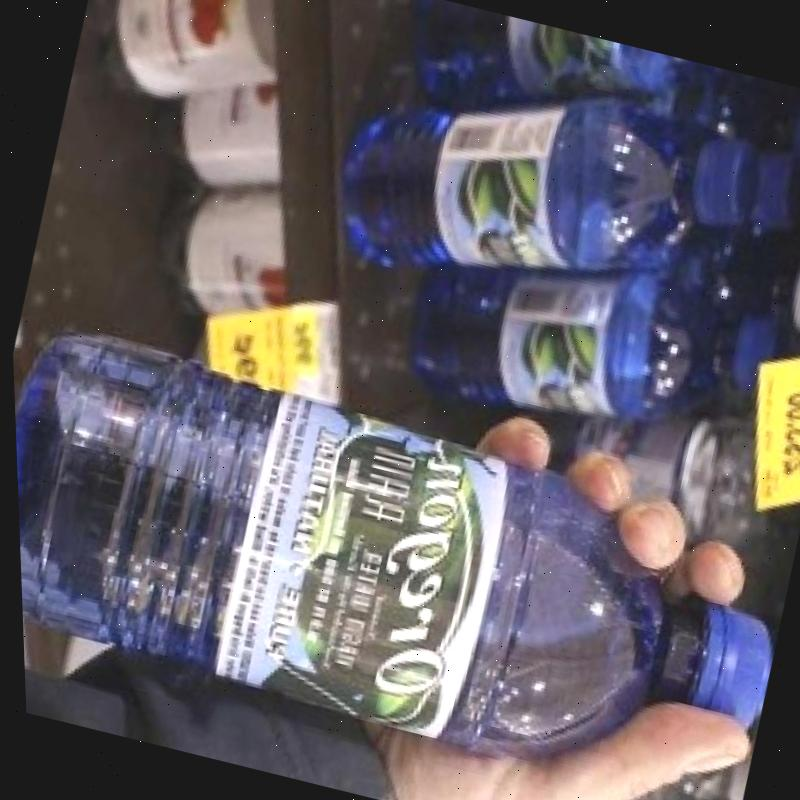botella: (9, 309, 800, 800), (314, 35, 769, 343), (380, 207, 787, 463), (399, 0, 738, 168), (518, 380, 791, 566), (599, 774, 735, 800)
